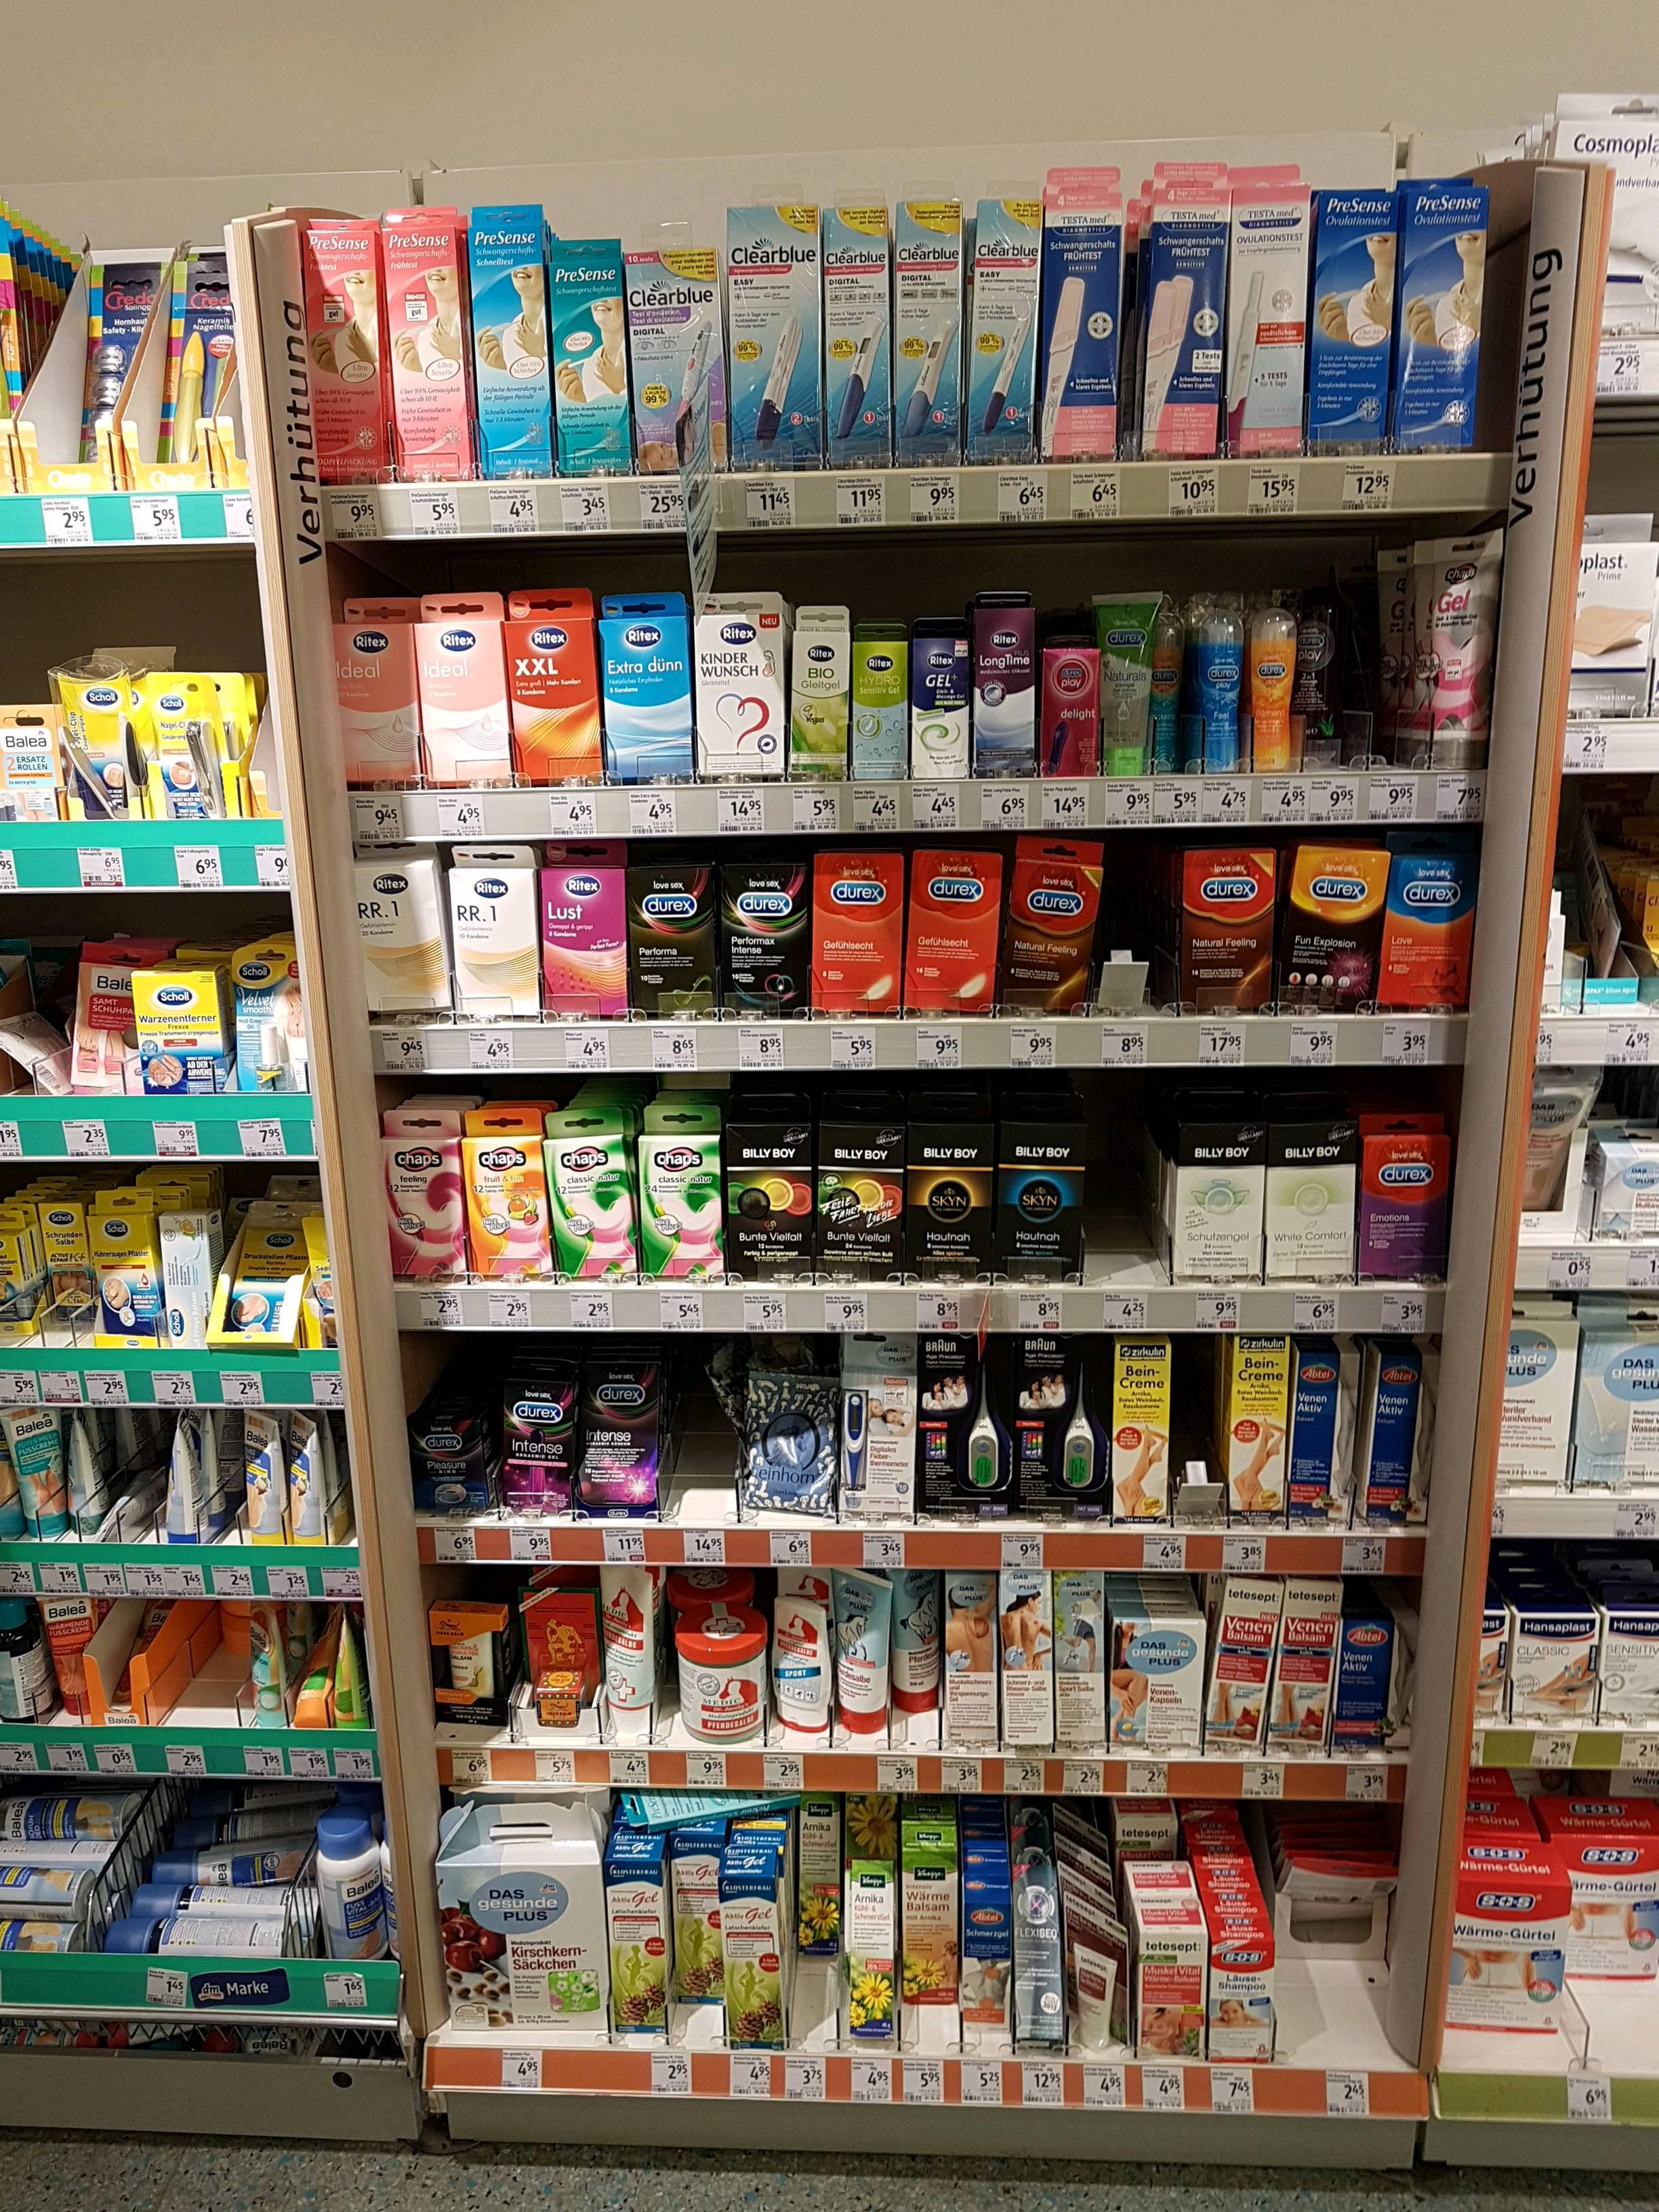misalignment: (744, 1366, 840, 1515), (1288, 1836, 1392, 1959), (826, 1571, 885, 1737), (221, 1217, 293, 1352), (617, 1789, 795, 1831), (890, 1573, 939, 1721), (2, 984, 61, 1096), (159, 1416, 204, 1548), (58, 1420, 106, 1529), (249, 1602, 282, 1726), (301, 1616, 333, 1726)
